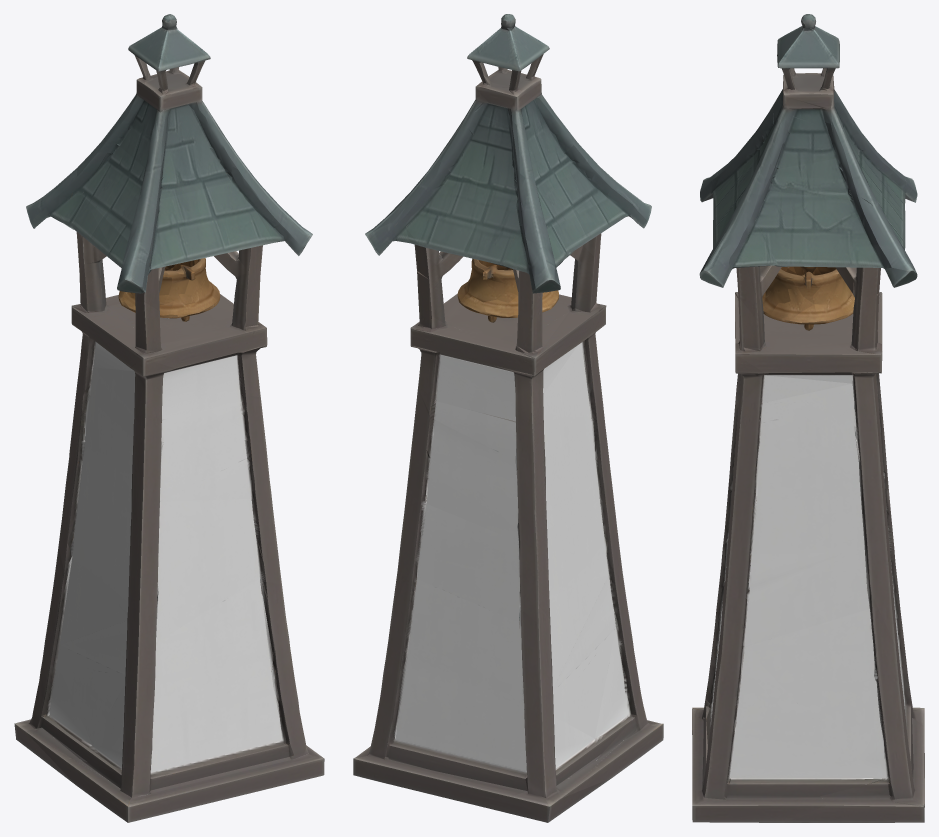
The model's file is bell_tower.glb.
3 renders of one model, left to right at view 1: azimuth 30°, elevation 25°; view 2: azimuth 150°, elevation 25°; view 3: azimuth 270°, elevation 25°, orthographic. The views are drawn at different scales.
Parts seen in each view (by area): view 1: bell_tower; view 2: bell_tower; view 3: bell_tower.
Part boxes in pixels (left/top/right/bottom): bell_tower: left=14, top=14, right=324, bottom=822; bell_tower: left=353, top=14, right=663, bottom=822; bell_tower: left=692, top=14, right=924, bottom=822.
Size of the model in its own units: 4.16 by 15 by 4.17.
1 material, 1 textured.
